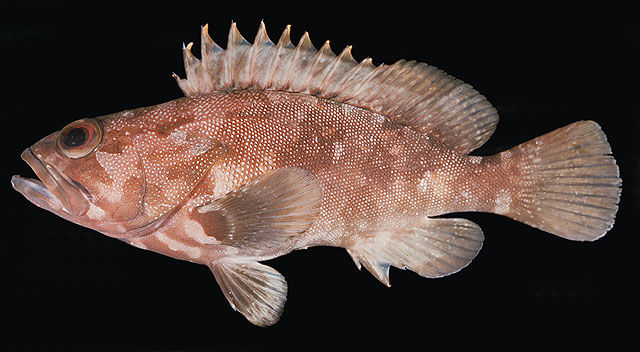fish: (11, 19, 623, 328)
